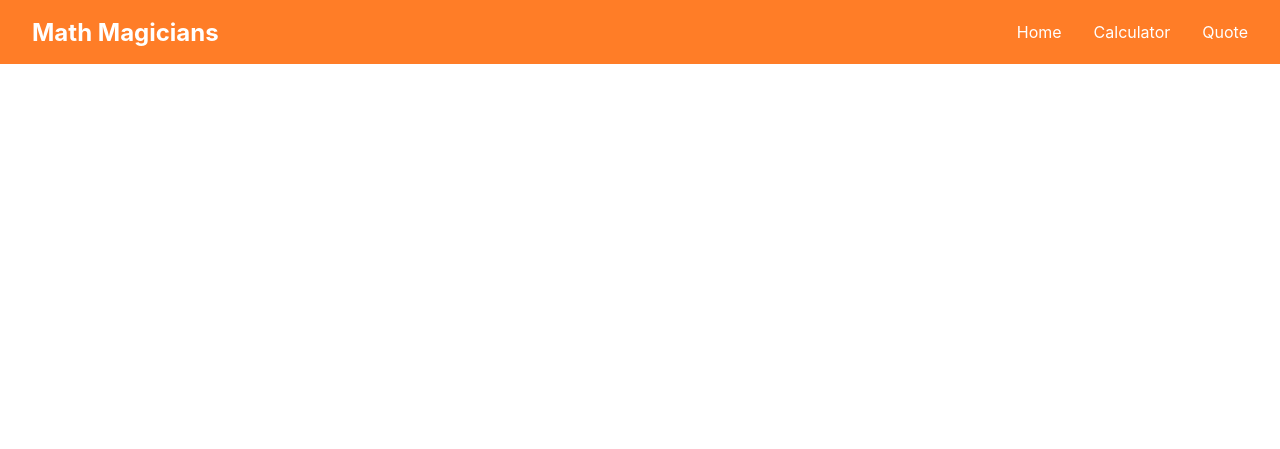
Test: Navbar tests › Navigate to Quote page from Home page
Click the link "Quote": (1225, 32) [1202, 22, 1248, 42]
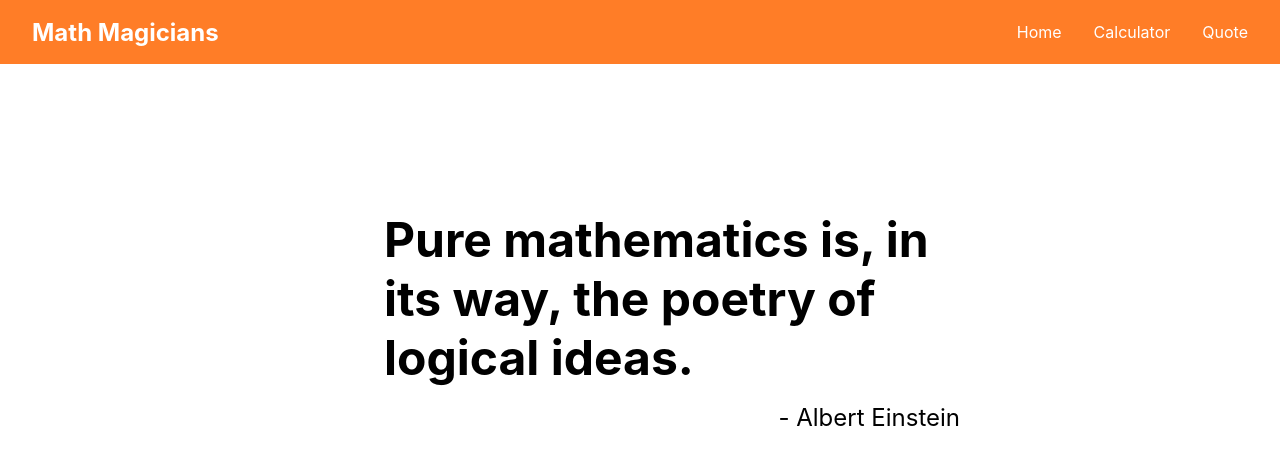
Now the text "Albert" is shown, box [778, 403, 960, 432]
